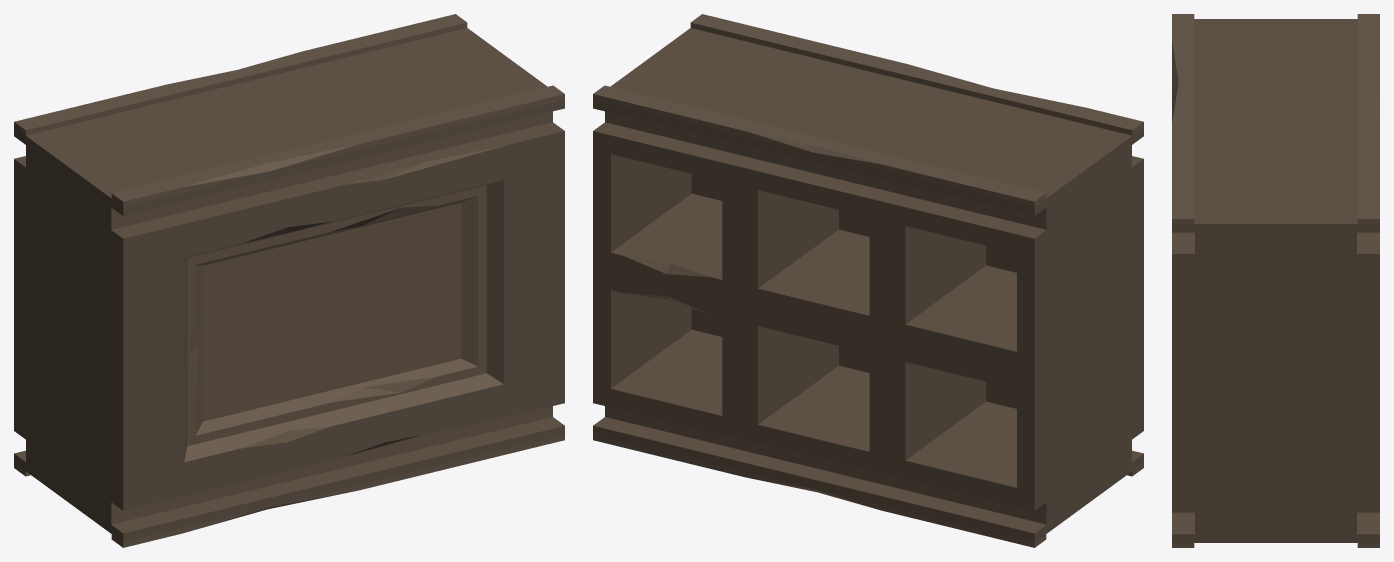
Rendered from SFHW_Reception_Roof_Shelving_001.fbx.
3 views of the same model, side by side, from view 1: azimuth 30°, elevation 25°; view 2: azimuth 150°, elevation 25°; view 3: azimuth 270°, elevation 25° (orthographic). The views are drawn at different scales.
Parts seen in each view (by area): view 1: SFHW_Reception_Roof_Shelving_001; view 2: SFHW_Reception_Roof_Shelving_001; view 3: SFHW_Reception_Roof_Shelving_001.
Part boxes in pixels (x1,y1,x2,y2): SFHW_Reception_Roof_Shelving_001: [14, 14, 564, 547]; SFHW_Reception_Roof_Shelving_001: [593, 14, 1143, 547]; SFHW_Reception_Roof_Shelving_001: [1172, 14, 1379, 547].
Size of the model in its own units: 140 by 105 by 60.
